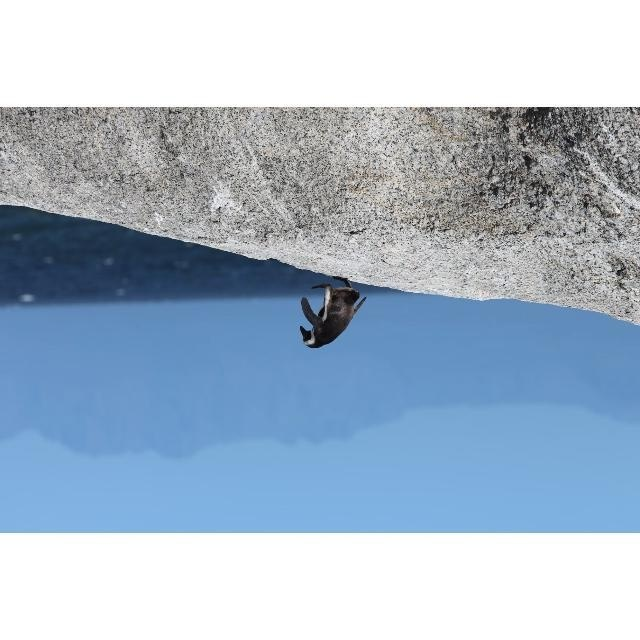penguin: (297, 273, 367, 349)
